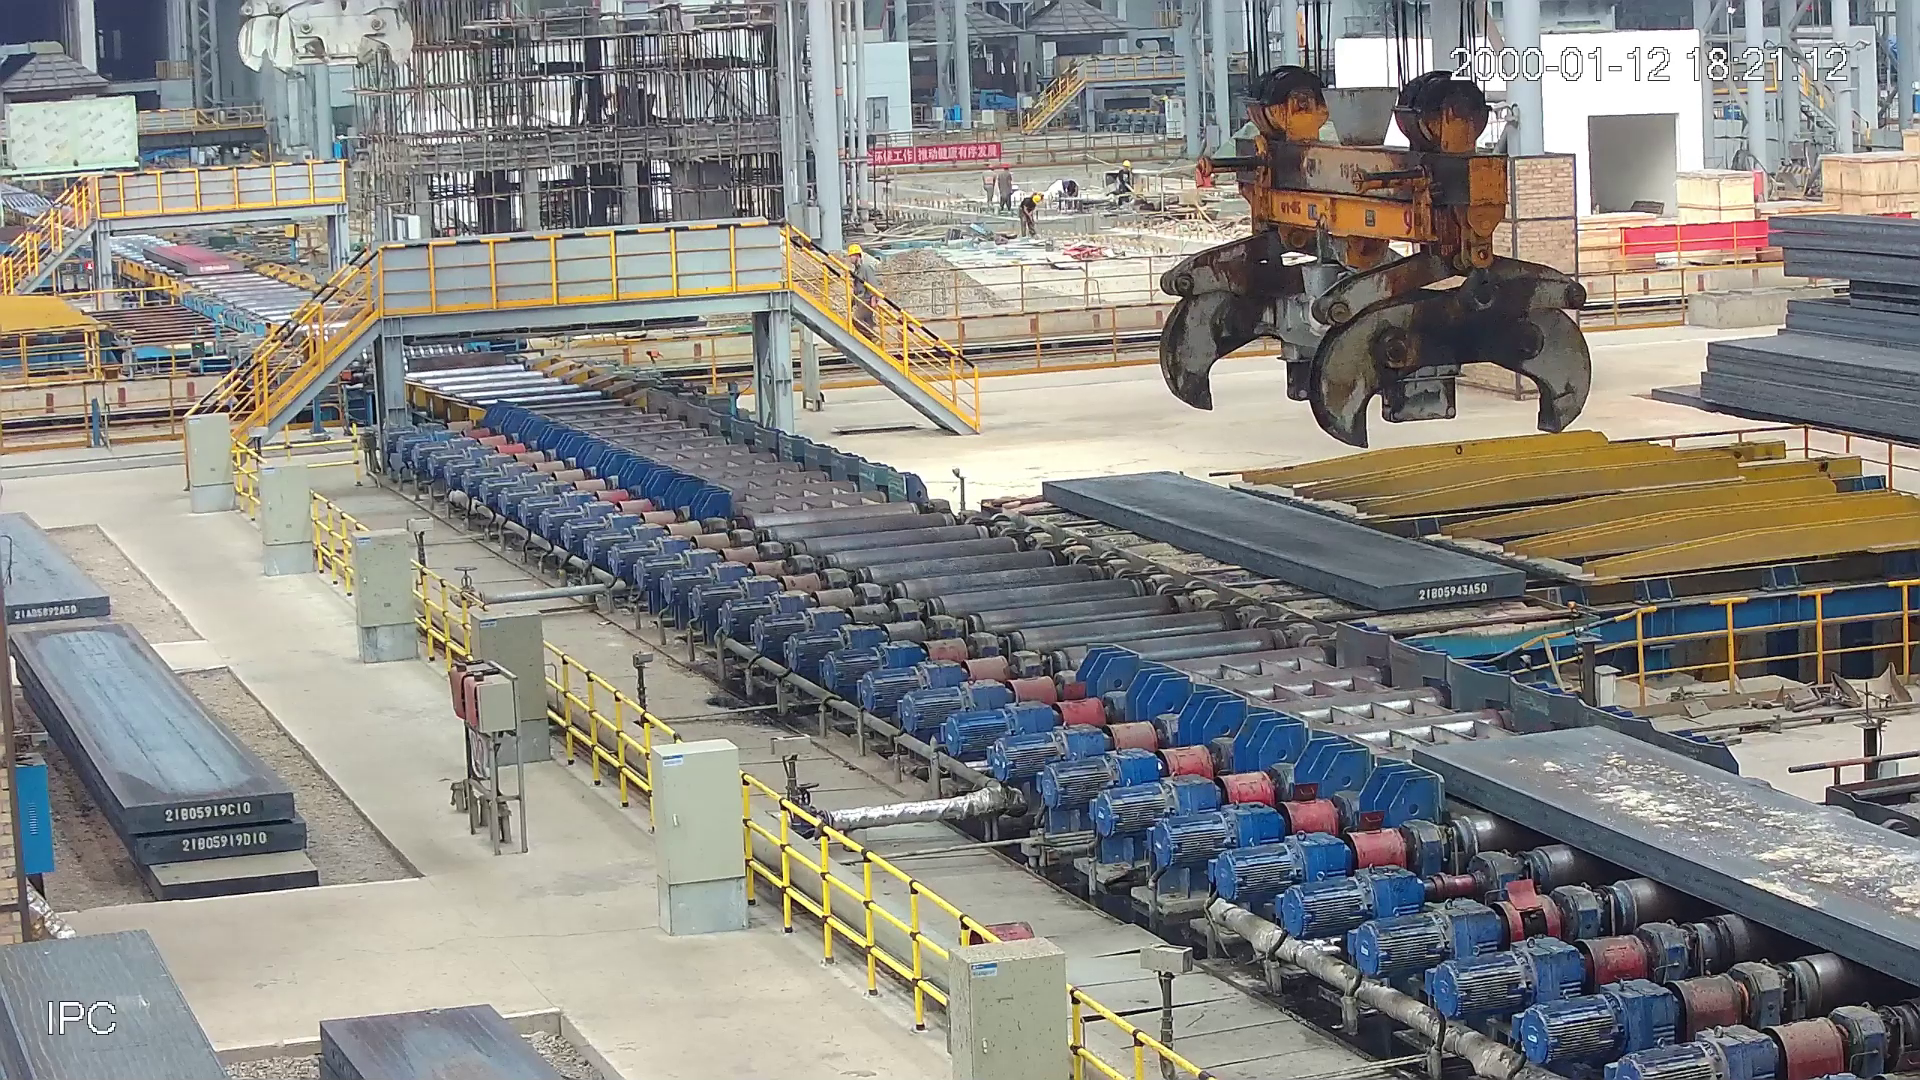crane: (1149, 53, 1601, 454)
slab: (1398, 717, 1920, 985), (1036, 462, 1534, 617), (138, 245, 251, 278)
